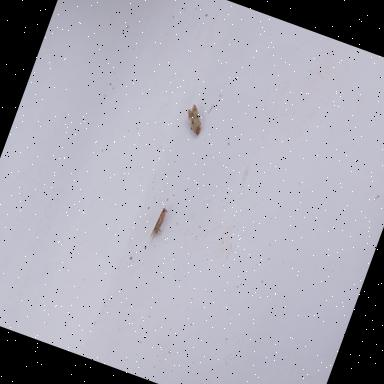pbw: (180, 103, 209, 137), (150, 204, 172, 242)
